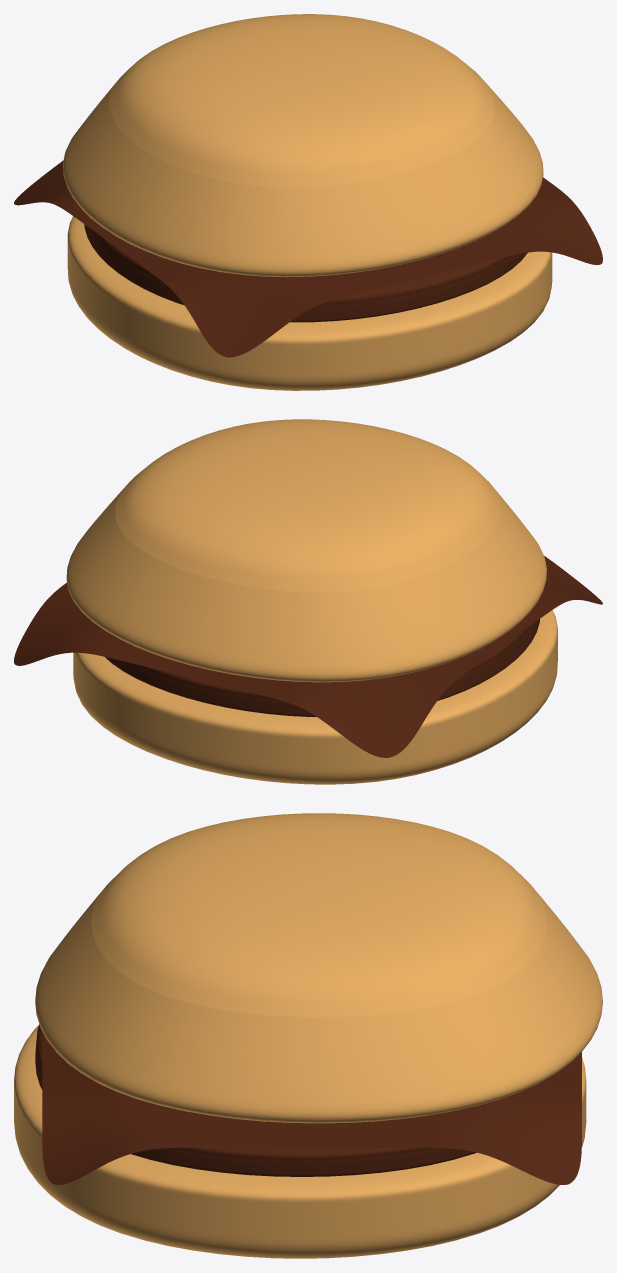
The model's file is hamburguer.glb.
The picture shows the model from 3 angles, top to bottom: view 1: azimuth 30°, elevation 25°; view 2: azimuth 150°, elevation 25°; view 3: azimuth 270°, elevation 25°; orthographic projection. The views are drawn at different scales.
Parts seen in each view (by area): view 1: Cube.003, Cube, Cube.001; view 2: Cube.003, Cube, Cube.001; view 3: Cube.003, Cube, Cube.001.
Boxes of the visible parts, left/top/right/bottom form: Cube.003: left=63, top=14, right=543, bottom=277; Cube: left=67, top=216, right=552, bottom=390; Cube.001: left=14, top=160, right=602, bottom=357; Cube.003: left=66, top=419, right=546, bottom=682; Cube: left=73, top=610, right=557, bottom=784; Cube.001: left=14, top=556, right=602, bottom=757; Cube.003: left=35, top=813, right=602, bottom=1123; Cube: left=14, top=1025, right=586, bottom=1258; Cube.001: left=35, top=1024, right=581, bottom=1184.
Bounding box in the file's own units: 9.11 × 5.17 × 9.37.
